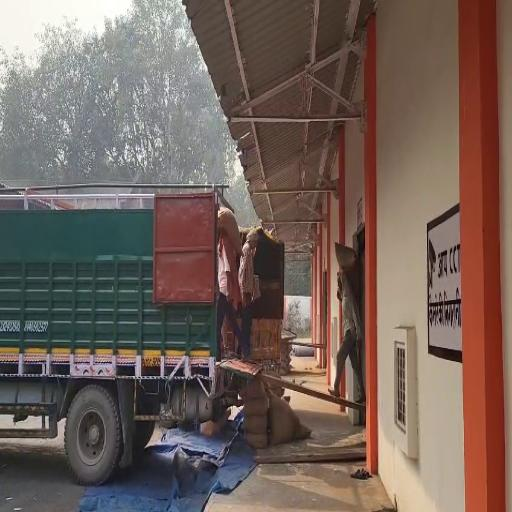bag: (331, 236, 367, 300), (216, 202, 248, 266)
